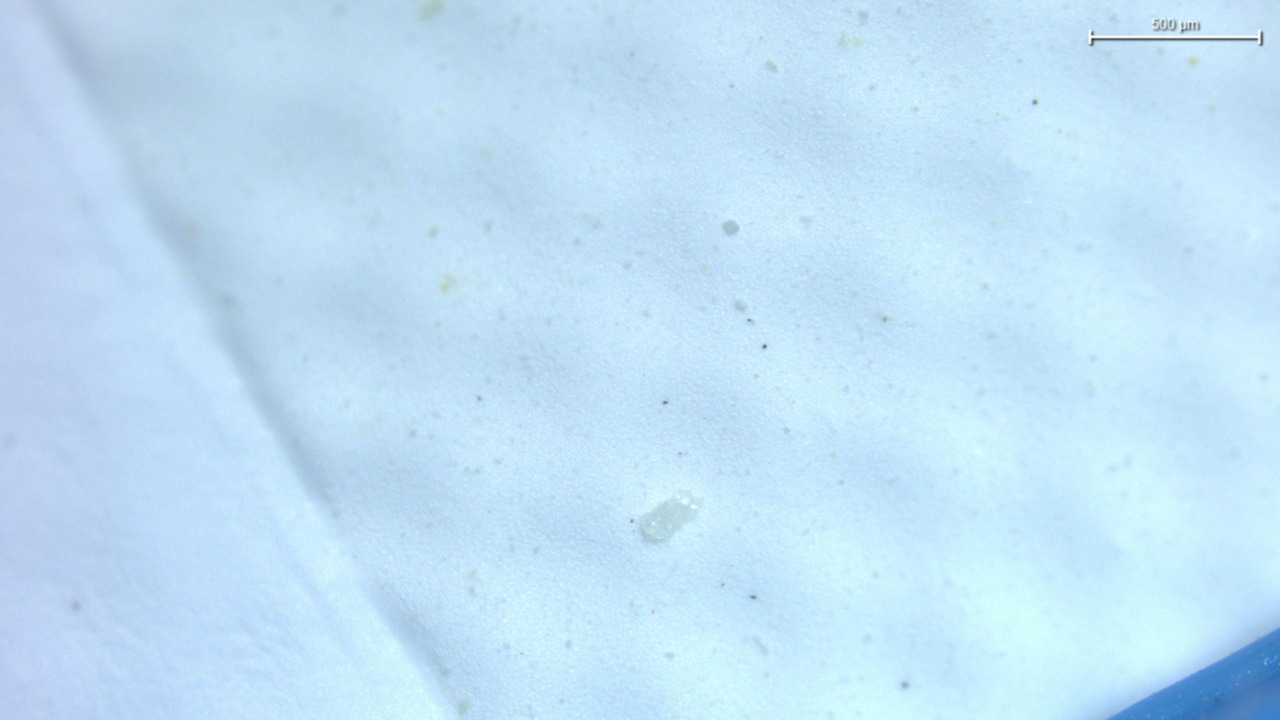microplastic_fragment: (639, 491, 701, 542)
